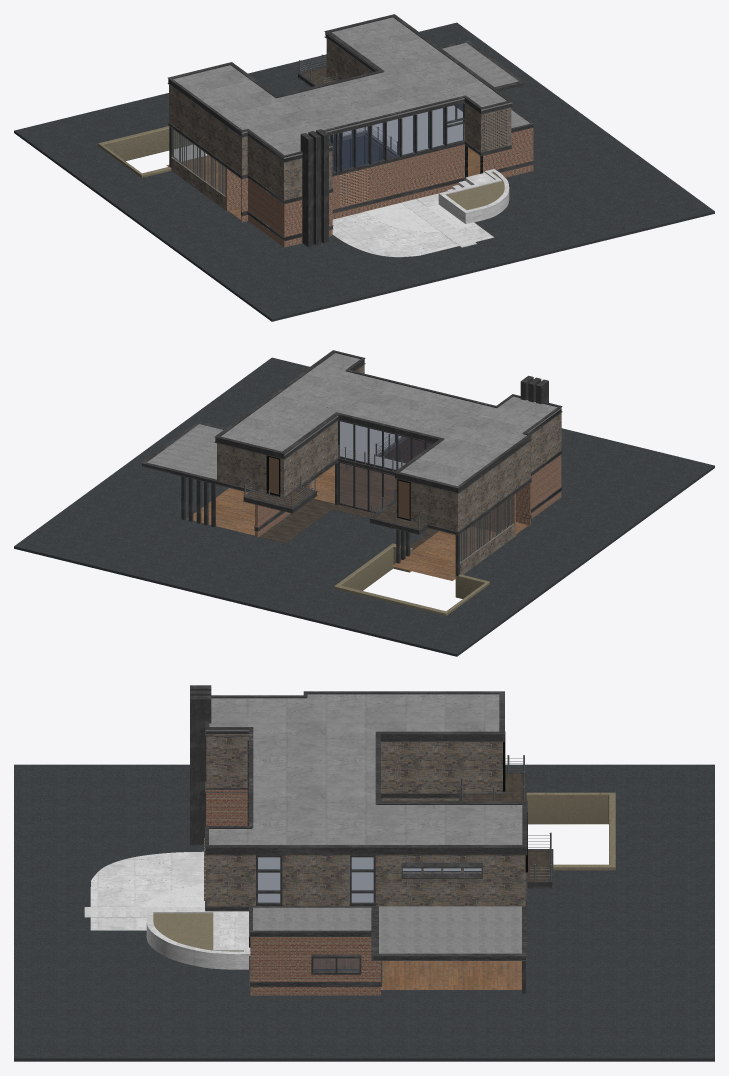
File: villa-modern.glb
The picture shows the model from 3 angles, top to bottom: view 1: azimuth 30°, elevation 25°; view 2: azimuth 150°, elevation 25°; view 3: azimuth 270°, elevation 25°; orthographic projection. The views are drawn at different scales.
Visible parts, largest first — view 1: Plane004_Material #14_0, Line046_Material #12_0, Box001_Material #8_0, Line001_Material #1_0, Rectangle001_Material #26_0, Box012_Material #2_0, Rectangle002_glass_0, Line007_Material #4_0, Line064_Material #3_0, Cylinder001_Material #7_0, Line062_Material #10_0, Line063_Material #27_0; view 2: Plane004_Material #14_0, Line046_Material #12_0, Box001_Material #8_0, Rectangle001_Material #26_0, Line062_Material #10_0, Rectangle002_glass_0, Line001_Material #1_0, Line063_Material #27_0, Line064_Material #3_0, Cylinder001_Material #7_0, Line007_Material #4_0, Box016_Material #20_0; view 3: Plane004_Material #14_0, Line046_Material #12_0, Rectangle001_Material #26_0, Box001_Material #8_0, Box012_Material #2_0, Line001_Material #1_0, Line064_Material #3_0, Line062_Material #10_0, Line007_Material #4_0, Rectangle002_glass_0, Line063_Material #27_0.
Part boxes in pixels (box(x1,y1,x2,y2)): Plane004_Material #14_0: box(14, 22, 714, 321); Line046_Material #12_0: box(173, 17, 529, 158); Box001_Material #8_0: box(167, 14, 534, 247); Line001_Material #1_0: box(225, 128, 533, 247); Rectangle001_Material #26_0: box(169, 39, 511, 209); Box012_Material #2_0: box(332, 169, 509, 257); Rectangle002_glass_0: box(329, 103, 463, 171); Line007_Material #4_0: box(329, 105, 472, 232); Line064_Material #3_0: box(98, 126, 504, 210); Cylinder001_Material #7_0: box(173, 54, 469, 195); Line062_Material #10_0: box(166, 155, 368, 219); Line063_Material #27_0: box(302, 67, 393, 168); Plane004_Material #14_0: box(14, 357, 714, 656); Line046_Material #12_0: box(147, 353, 561, 505); Box001_Material #8_0: box(141, 350, 562, 577); Rectangle001_Material #26_0: box(217, 365, 561, 574); Line062_Material #10_0: box(187, 463, 528, 580); Rectangle002_glass_0: box(339, 421, 432, 512); Line001_Material #1_0: box(255, 438, 561, 537); Line063_Material #27_0: box(247, 488, 438, 549); Line064_Material #3_0: box(334, 543, 489, 615); Cylinder001_Material #7_0: box(244, 445, 513, 562); Line007_Material #4_0: box(340, 421, 405, 469); Box016_Material #20_0: box(269, 457, 410, 520); Plane004_Material #14_0: box(14, 764, 714, 1061); Line046_Material #12_0: box(205, 694, 550, 953); Rectangle001_Material #26_0: box(204, 734, 525, 906); Box001_Material #8_0: box(190, 685, 553, 993); Box012_Material #2_0: box(84, 851, 250, 969); Line001_Material #1_0: box(206, 789, 380, 995); Line064_Material #3_0: box(153, 792, 615, 951); Line062_Material #10_0: box(313, 958, 521, 989); Line007_Material #4_0: box(137, 856, 481, 927); Rectangle002_glass_0: box(258, 856, 481, 970); Line063_Material #27_0: box(464, 773, 549, 880).
Bounding box in the file's own units: 35.1 × 9.65 × 35.4.
Materials: 17 (13 with a texture image).
